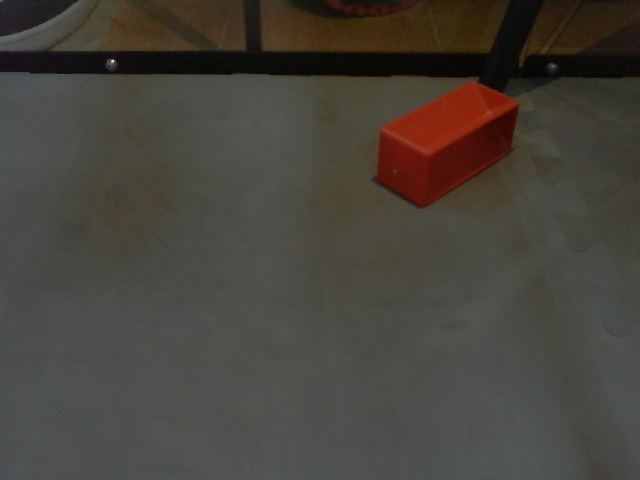RedSample: (376, 81, 521, 205)
